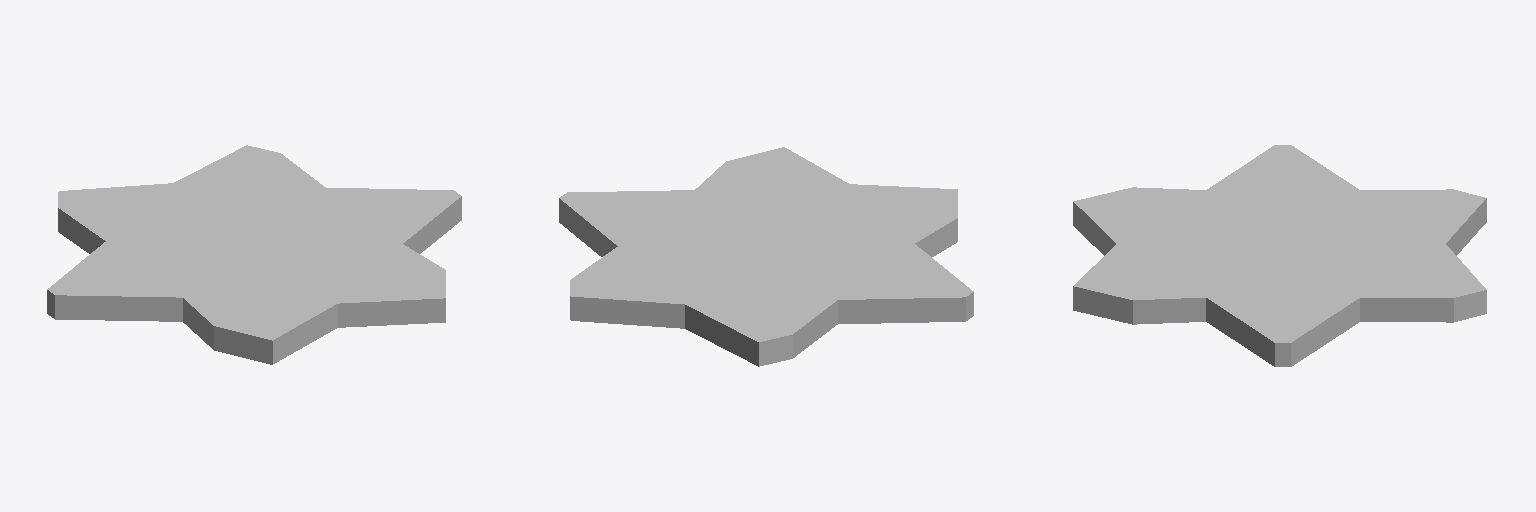
The model's file is Pepparkaka-Star.obj.
The picture shows the model from 3 angles: view 1: azimuth 30°, elevation 25°; view 2: azimuth 150°, elevation 25°; view 3: azimuth 270°, elevation 25°; orthographic projection.
Visible parts, largest first — view 1: Plane; view 2: Plane; view 3: Plane.
Boxes of the visible parts, <box> form: Plane: <box>47,145,461,364</box>; Plane: <box>559,147,973,366</box>; Plane: <box>1073,145,1486,366</box>.
Bounding box in the file's own units: 4.43 × 0.2527 × 3.9.